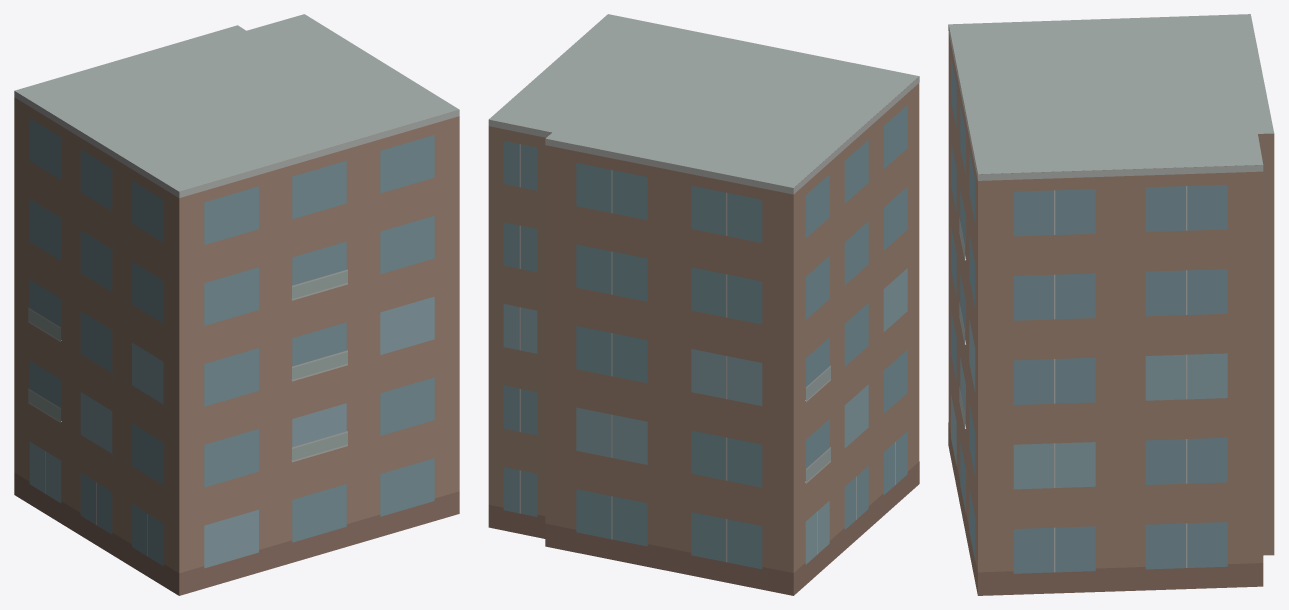
The model's file is survey-upis-32963399.glb.
The picture shows the model from 3 angles, left to right: view 1: azimuth 30°, elevation 25°; view 2: azimuth 150°, elevation 25°; view 3: azimuth 270°, elevation 25°; orthographic projection. The views are drawn at different scales.
Parts seen in each view (by area): view 1: survey-upis-32963399.tmp; view 2: survey-upis-32963399.tmp; view 3: survey-upis-32963399.tmp.
Part boxes in pixels (bbox=[...]): survey-upis-32963399.tmp: bbox=[14, 14, 459, 595]; survey-upis-32963399.tmp: bbox=[488, 14, 919, 595]; survey-upis-32963399.tmp: bbox=[948, 14, 1274, 595].
Size of the model in its own units: 12.43 by 15.25 by 10.69.
